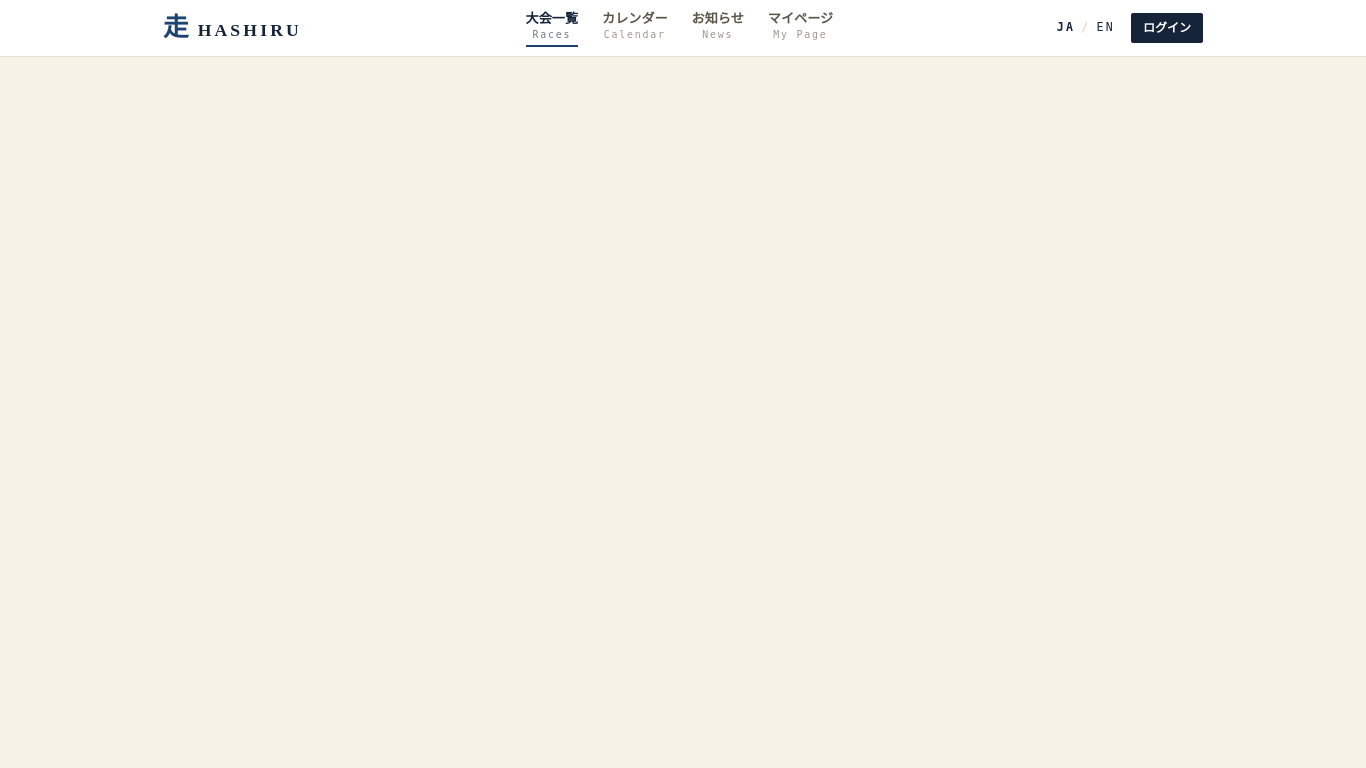
Header - 未ログイン状態 › ドロップダウン外をクリックすると閉じる
Click the button "ログイン". click: click(1167, 28)
box: [1131,13,1203,43]
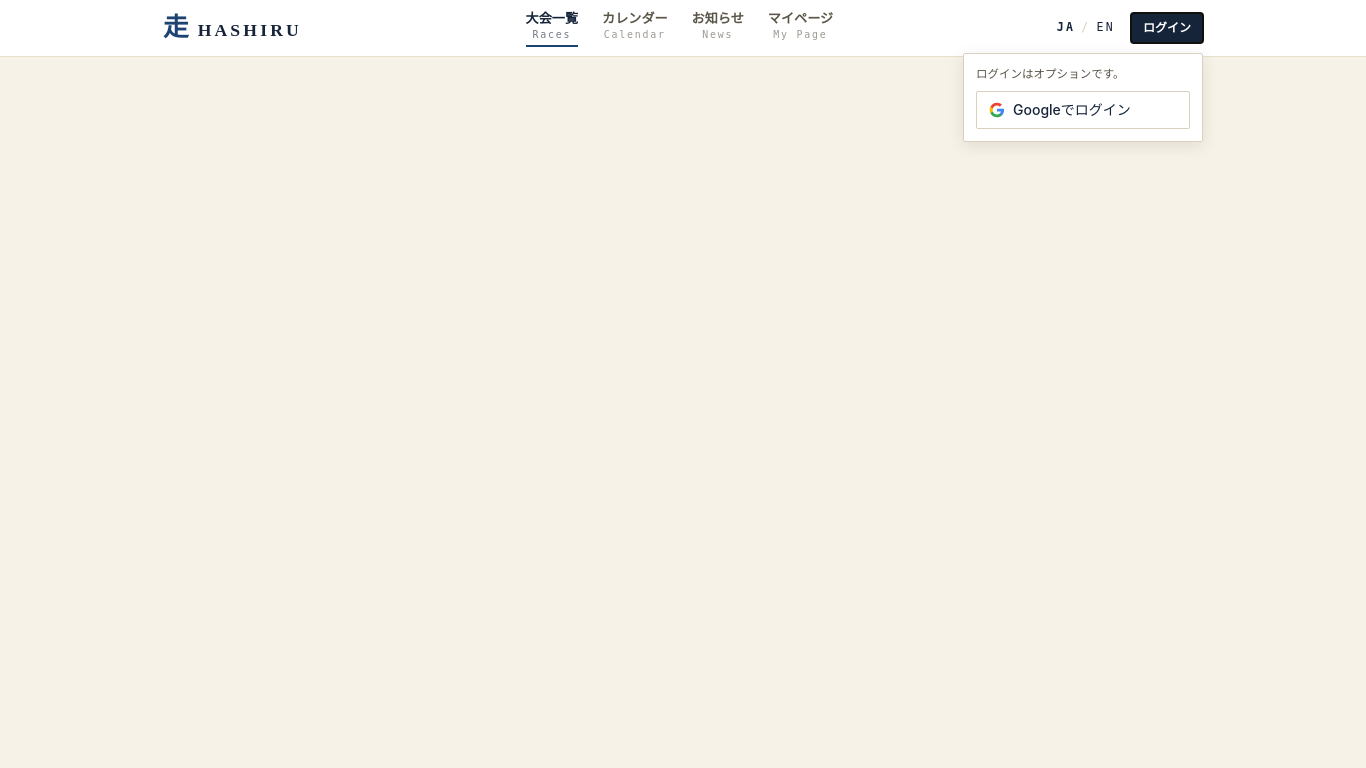
Expected: the button "Googleでログイン" is shown, [976,91,1190,129]
backdrop div（fixed inset-0）をクリック
Click the element with class "inset-0". click: click(683, 384)
box: [0,0,1365,767]
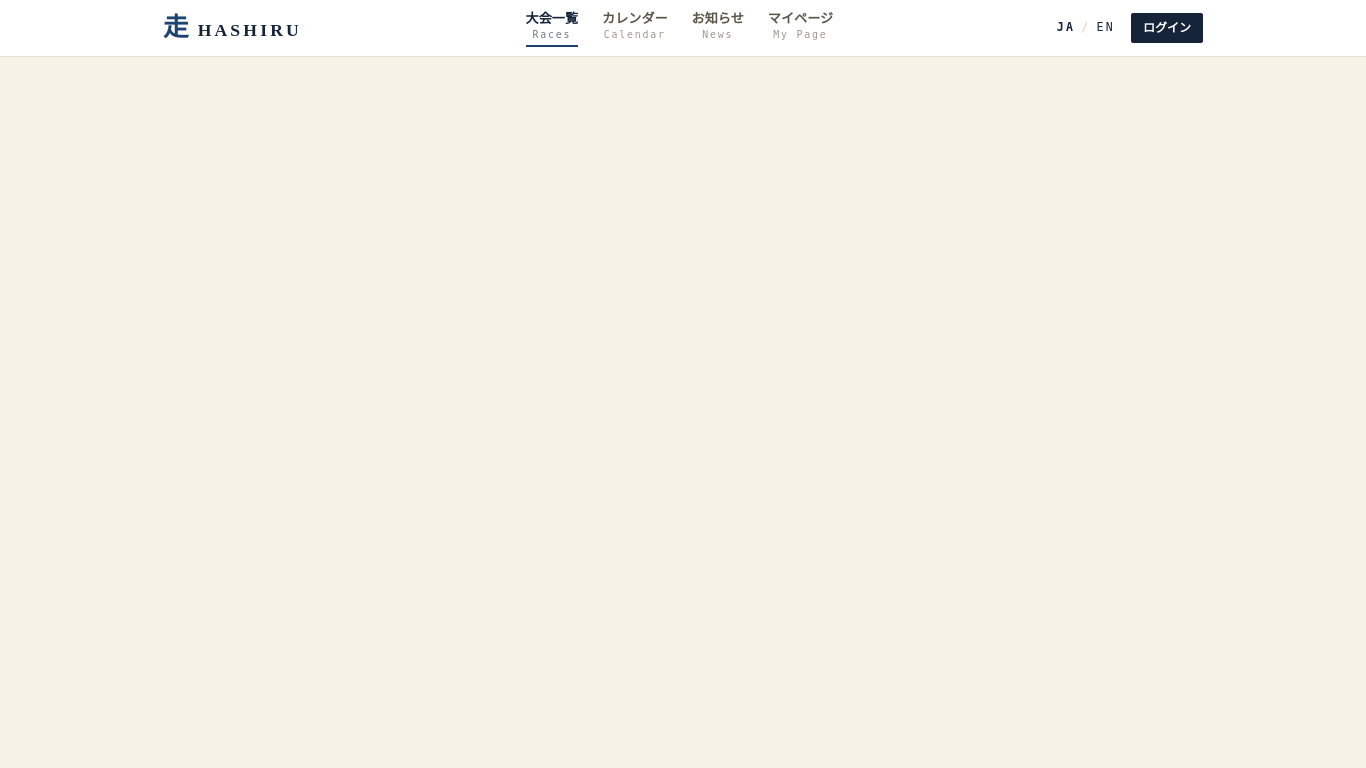
Expected: the button "Googleでログイン" is gone
